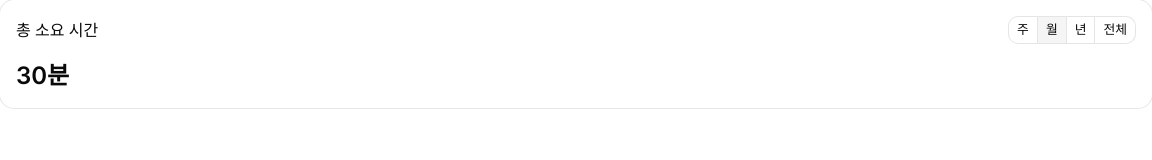
Test: TimeSummary › 전체 탭 선택 시 누적 합계와 첫 기록 날짜가 표시된다
Click the radio button labelled "전체": (1116,30) [1096, 16, 1136, 44]
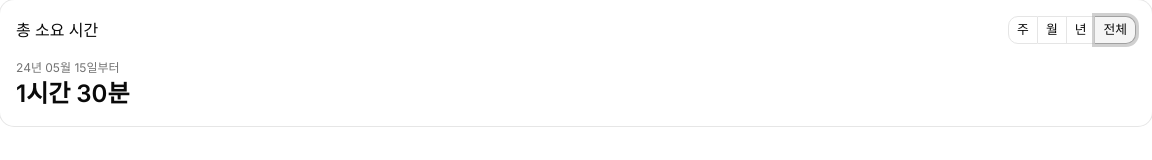
Result: the text "24년 05월 15일부터" is shown at [16, 60, 120, 75]
Result: the text "1시간 30분" is shown at [16, 79, 130, 108]
